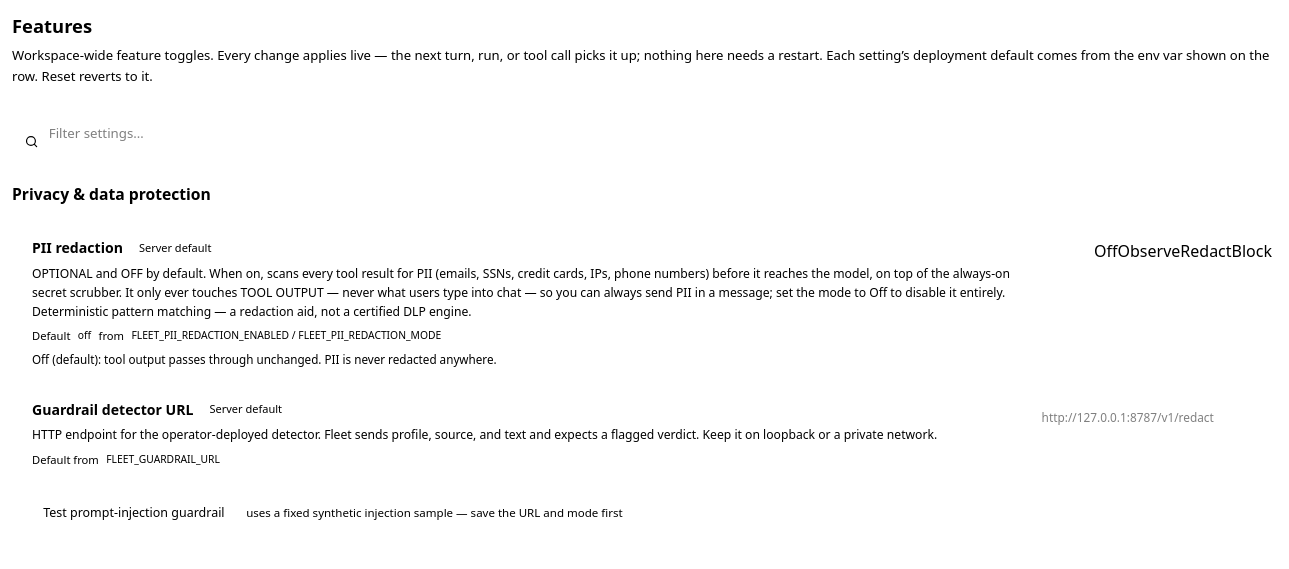
Test: FeaturesAdminPage › saves a url setting via its Save button and runs the guardrail probe
Type "http://127.0.0.1:8790/v1/check" into the field with test id "input-guardrail_url". click: (1152, 418)
box: [1032,400,1272,436]
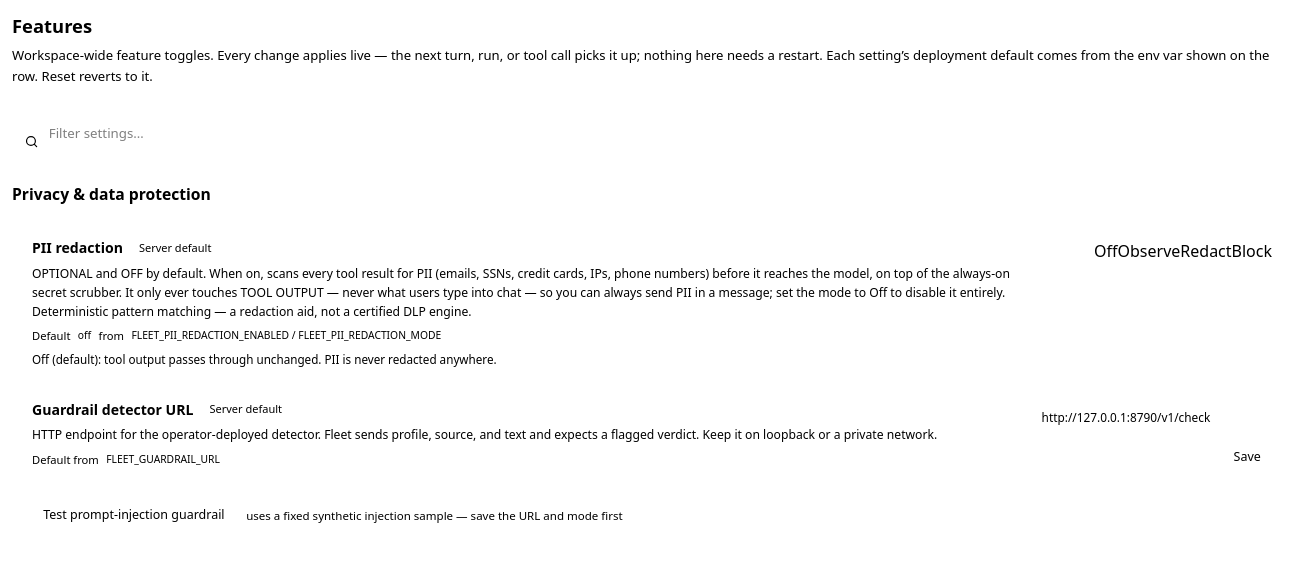
Click the button with test id "save-guardrail_url". click: (1247, 457)
box: [1222,443,1272,471]
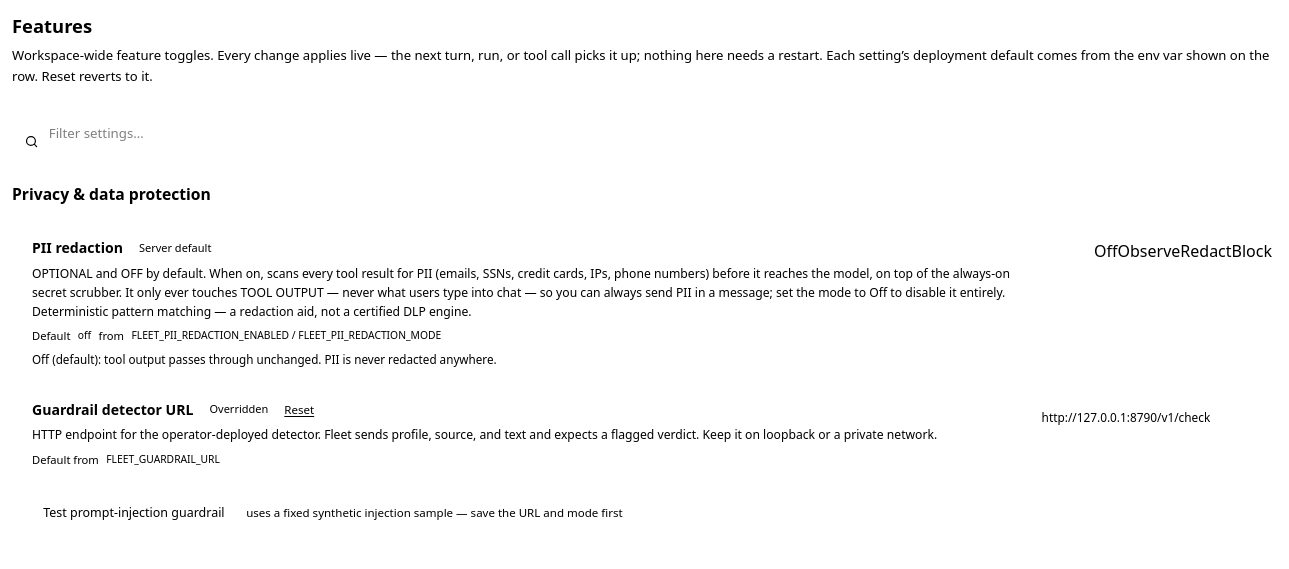
Result: the text "Overridden" is shown at [210,401,268,416]
# Probe: reports profile + mode + verdict + detail.
Click the button with test id "guardrail-probe-run". click: (134, 513)
box: [32,499,236,527]
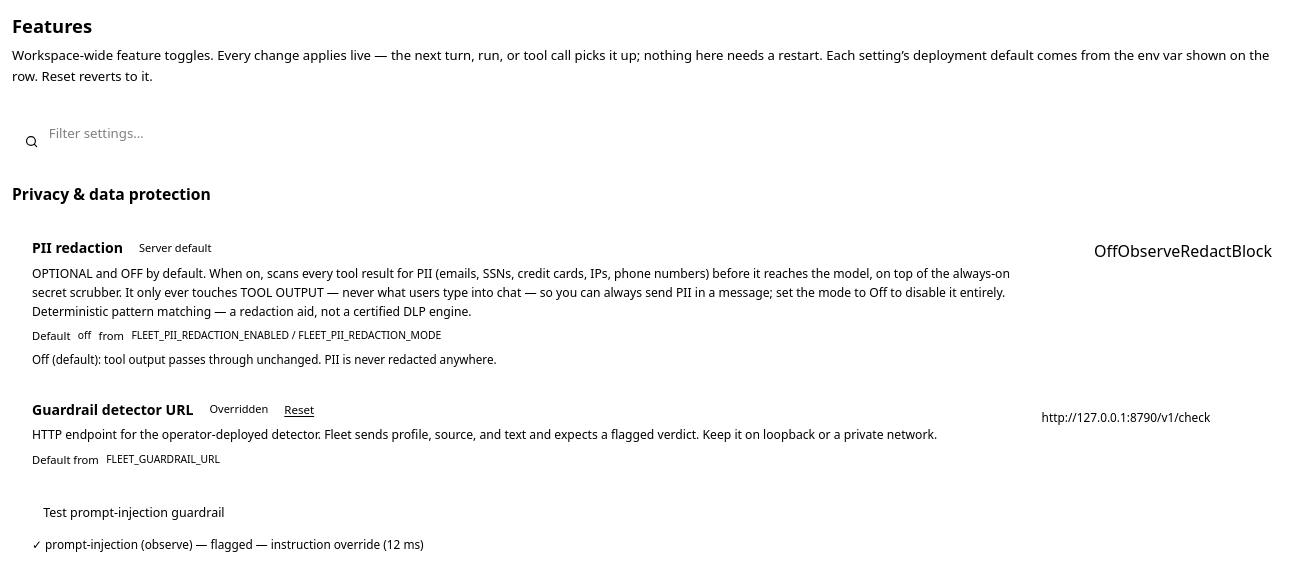
Result: the element with test id "guardrail-probe" shows "prompt-injection (observe)" at [45,536,192,552]
Result: the element with test id "guardrail-probe" shows "flagged" at [192,536,253,552]
Result: the element with test id "guardrail-probe" shows "instruction override" at [253,536,380,552]
